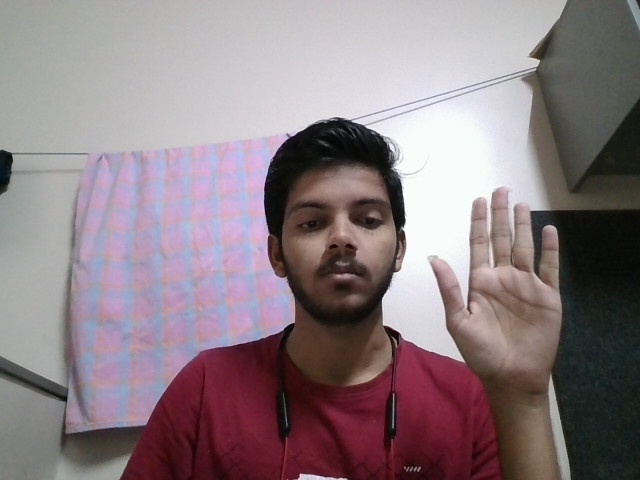Hello: (422, 184, 590, 393)
